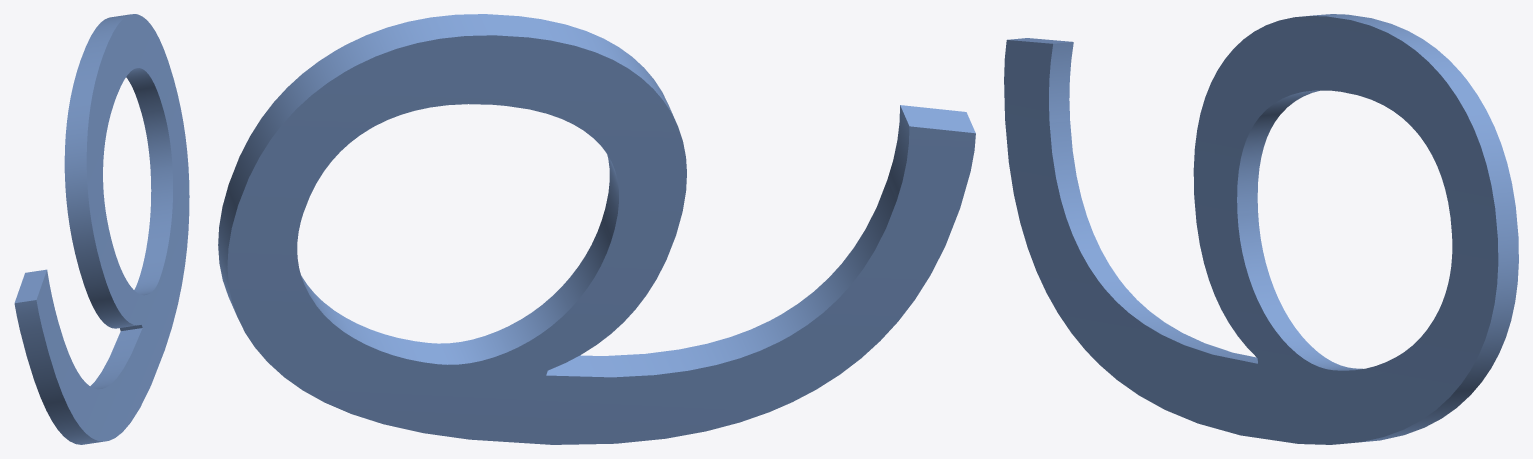
The model's file is New_Number_6.gltf.
3 renders of one model, left to right at view 1: azimuth 30°, elevation 25°; view 2: azimuth 150°, elevation 25°; view 3: azimuth 270°, elevation 25°, orthographic. The views are drawn at different scales.
Visible parts, largest first — view 1: Part 222; view 2: Part 222; view 3: Part 222.
Boxes of the visible parts, x1,y1,x2,y2 form: Part 222: (14, 14, 189, 444); Part 222: (218, 14, 975, 444); Part 222: (1004, 14, 1518, 444).
Size of the model in its own units: 0.00436 by 0.00391 by 0.00424.
